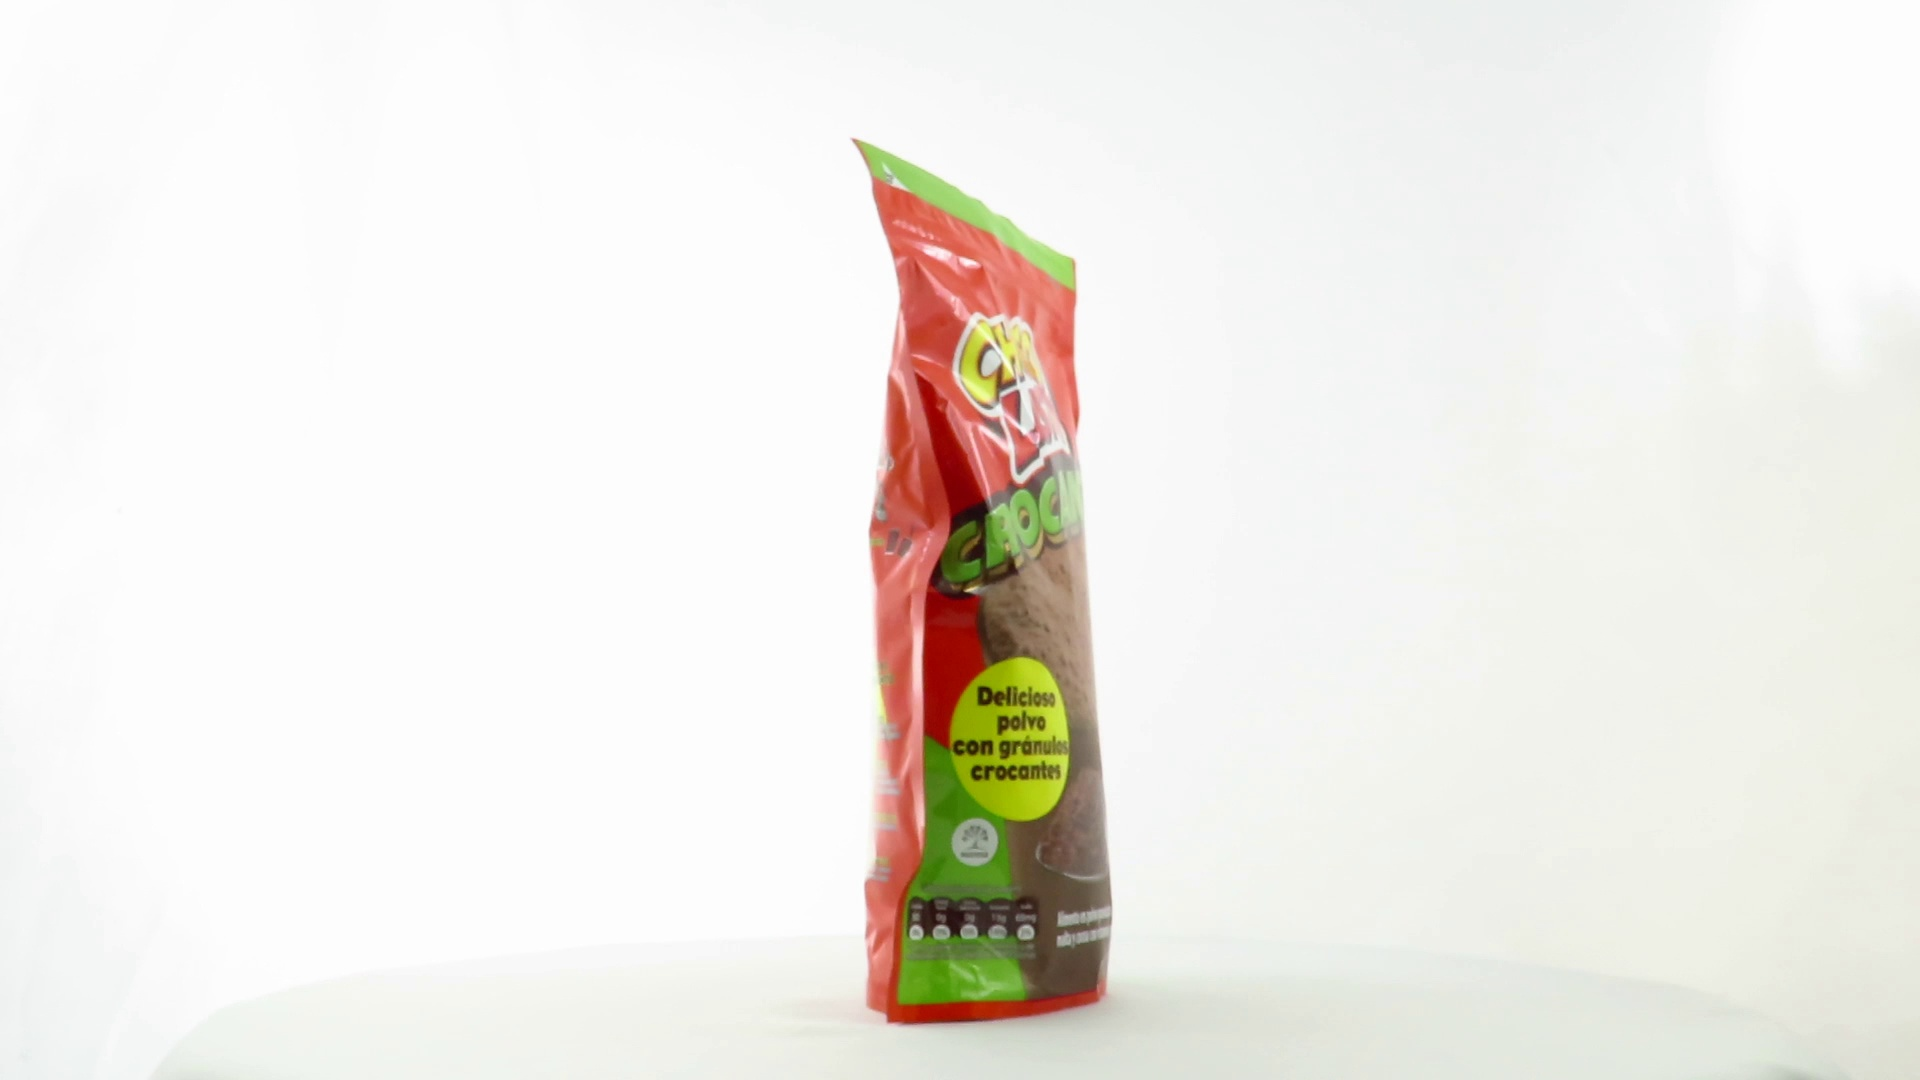COL0170102DYP50000: (847, 133, 1120, 1031)
